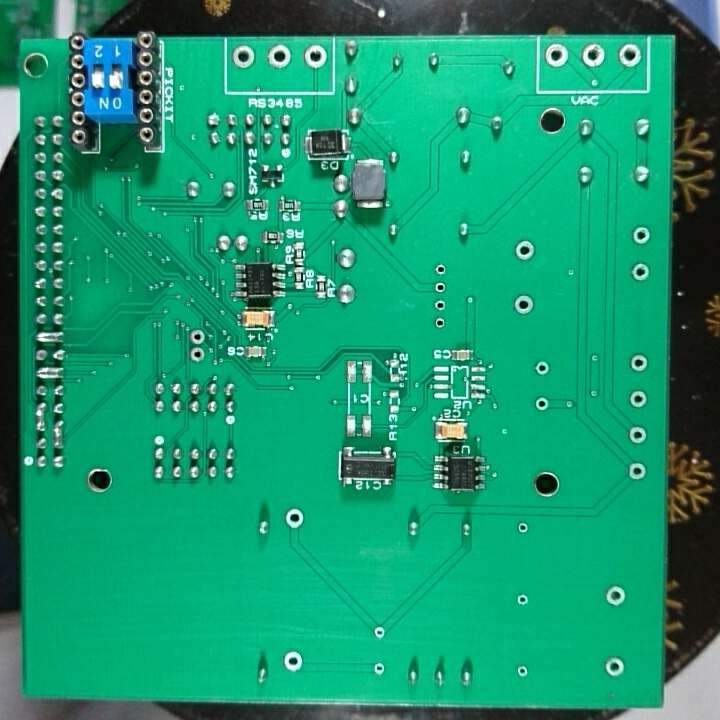F: (543, 41, 571, 71), (580, 40, 607, 71), (229, 43, 258, 71), (302, 42, 329, 72), (266, 42, 294, 70), (618, 43, 643, 72), (603, 581, 628, 609), (511, 238, 538, 263), (602, 653, 625, 680), (282, 648, 305, 674), (626, 424, 651, 446), (628, 350, 649, 376), (284, 506, 305, 532), (510, 293, 536, 314), (627, 386, 648, 409), (631, 223, 651, 247), (631, 259, 651, 283), (627, 460, 645, 483), (187, 345, 208, 363), (532, 358, 551, 377), (188, 326, 206, 346), (431, 261, 451, 279), (514, 518, 531, 538), (371, 660, 389, 678), (533, 395, 551, 413), (431, 295, 448, 314), (372, 623, 388, 643), (432, 278, 449, 296), (514, 592, 531, 609), (514, 662, 530, 680), (432, 315, 445, 331)
P: (31, 400, 49, 435), (32, 328, 66, 346), (51, 420, 68, 450), (34, 366, 67, 381)
